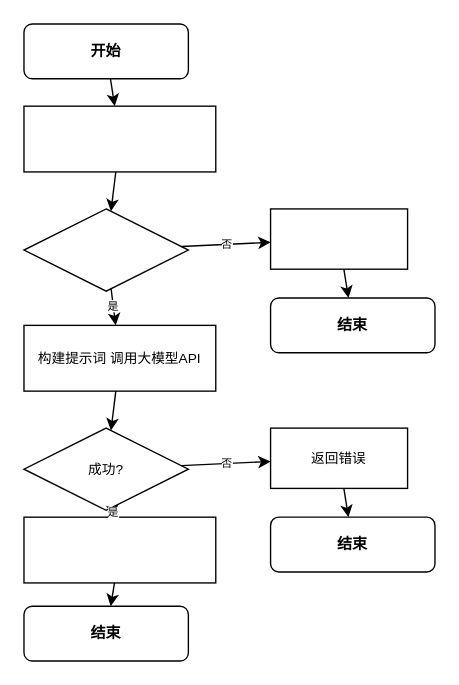
Some shapes in this 459 by 685 pixel diagram are drawn without their labels. Here are the shapes that lost their labels. From the top down, the centre of each, then its label:
[119,138]: 接收AI请求 检查可用性
[105,249]: 可用?
[338,238]: 返回提示
[119,549]: 保存记录 返回回复
